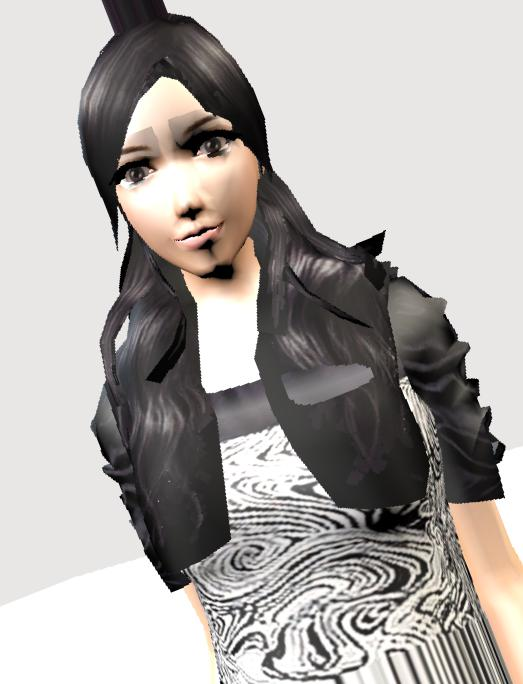clip: (318, 351, 386, 404)
